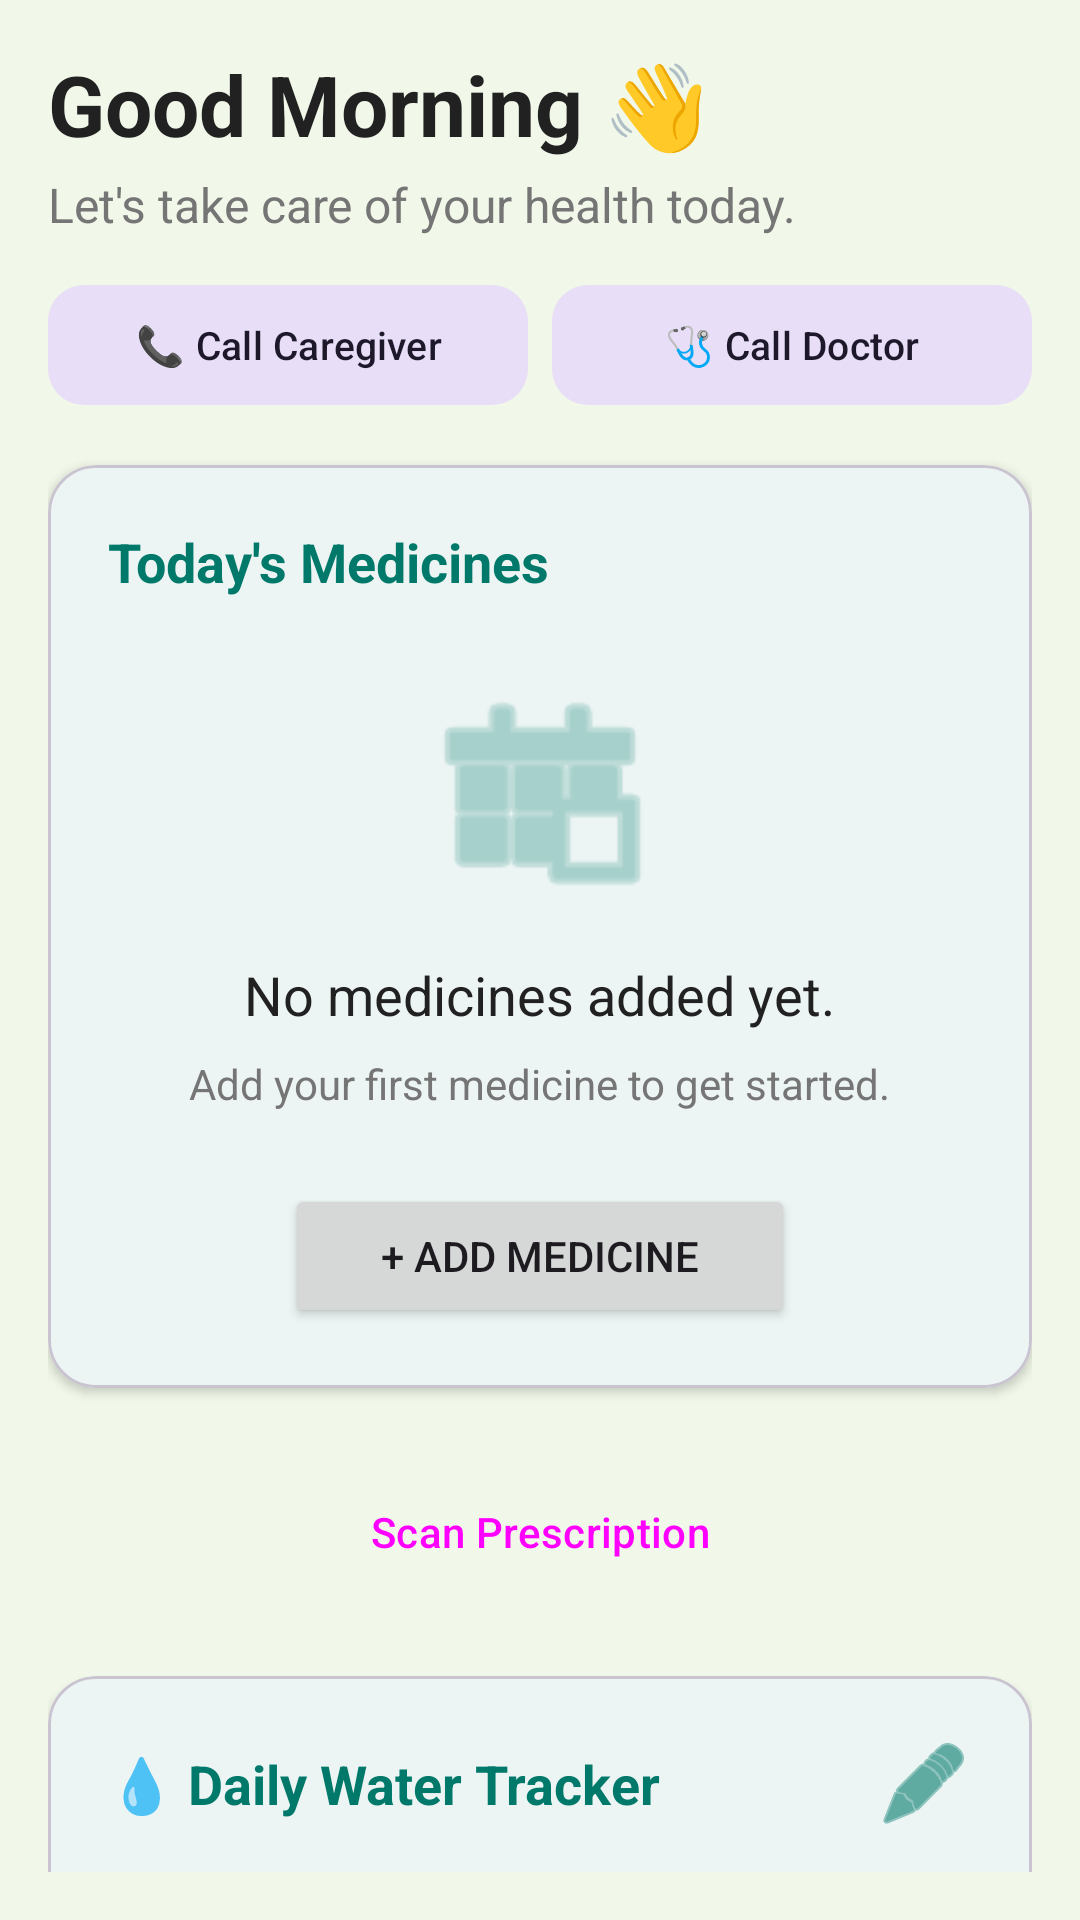

Screen size 1080×1920. Icon name, then its box in pixels as [x1, y1, x2, y2]:
Edit Medicine: [883, 1743, 964, 1824]
